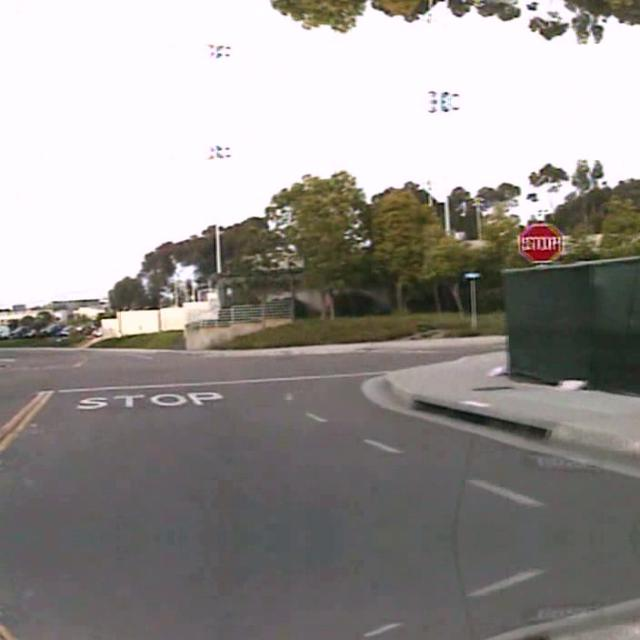stop: (518, 221, 562, 261)
